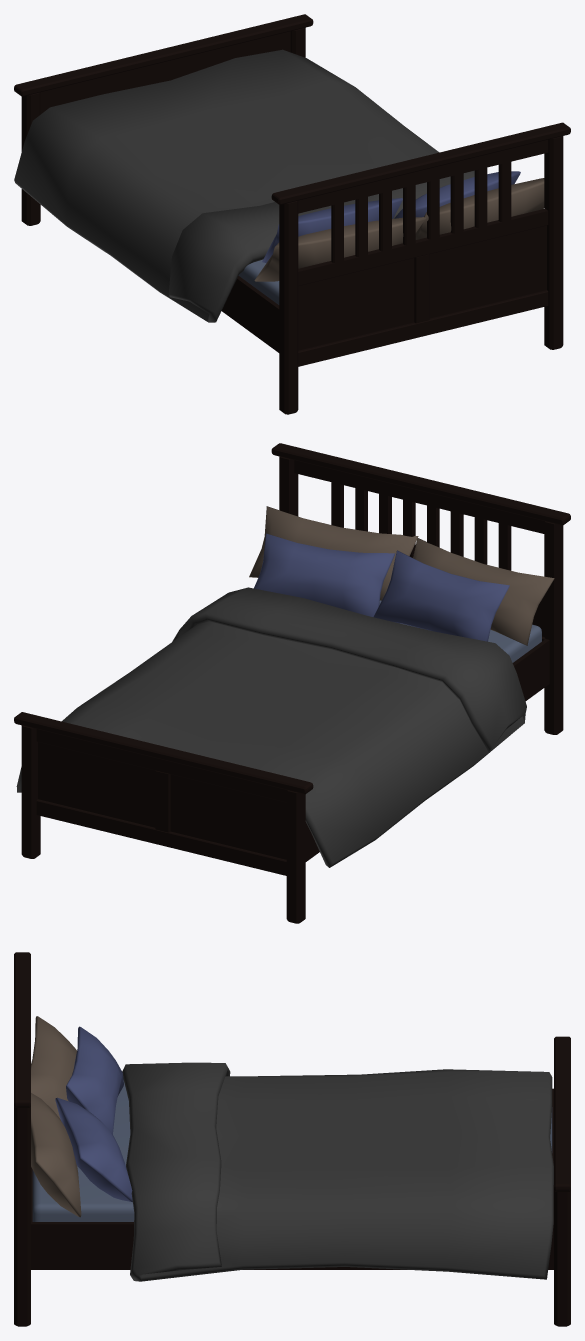
Rendered from h-004_bed_02_F.FBX.
3 renders of one model, top to bottom at view 1: azimuth 30°, elevation 25°; view 2: azimuth 150°, elevation 25°; view 3: azimuth 270°, elevation 25°, orthographic. The views are drawn at different scales.
Parts seen in each view (by area): view 1: h-004_bed_02; view 2: h-004_bed_02; view 3: h-004_bed_02.
Boxes of the visible parts, x1,y1,x2,y2 form: h-004_bed_02: (14, 14, 570, 414); h-004_bed_02: (14, 443, 570, 923); h-004_bed_02: (14, 952, 570, 1326).
Bounding box in the file's own units: 23.32 × 15 × 33.
